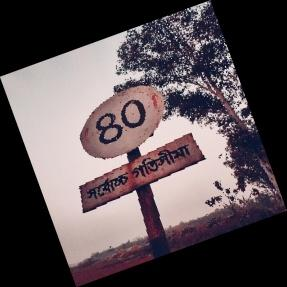Speed-limit: (78, 84, 201, 212)
